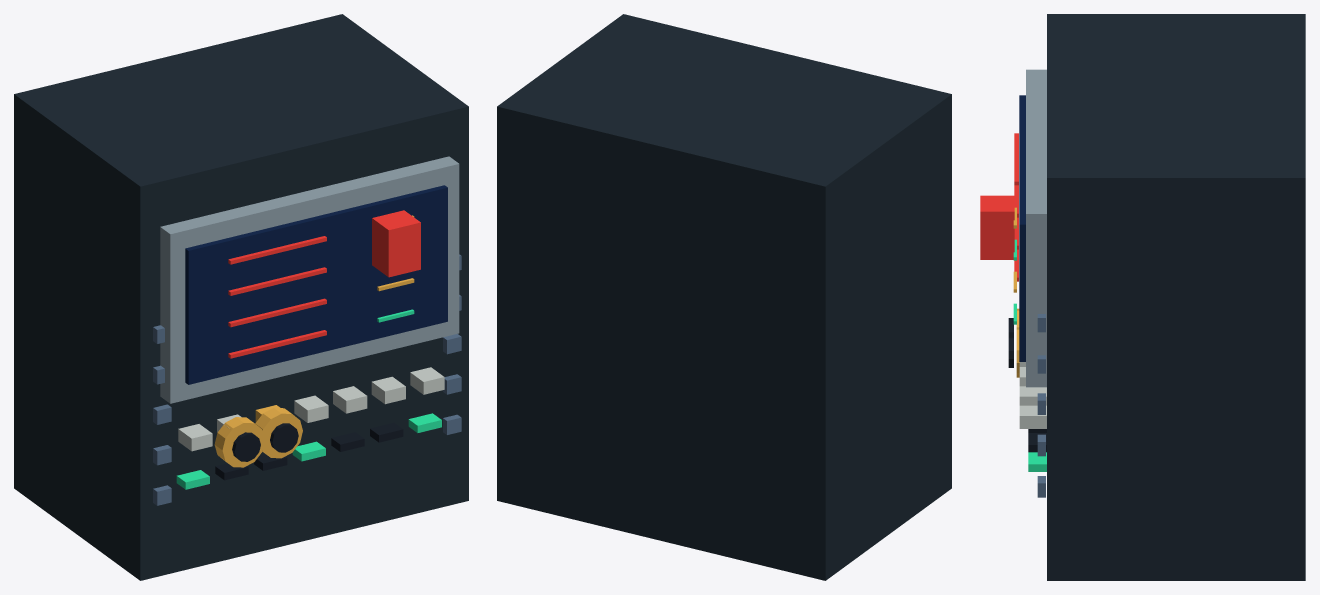
Rendered from 66_L84_ReactionWheelSaturationAlarm.fbx.
3 views of the same model, side by side, from view 1: azimuth 30°, elevation 25°; view 2: azimuth 150°, elevation 25°; view 3: azimuth 270°, elevation 25° (orthographic). The views are drawn at different scales.
Parts seen in each view (by area): view 1: L84_ReactionWheelSaturationAlarm, L84_ReactionWheelSaturationAlarm_Part_0010, L84_ReactionWheelSaturationAlarm_Part_0012, L84_ReactionWheelSaturationAlarm_Part_0011, L84_ReactionWheelSaturationAlarm_Part_0013; view 2: L84_ReactionWheelSaturationAlarm; view 3: L84_ReactionWheelSaturationAlarm.
Part boxes in pixels (<box>): L84_ReactionWheelSaturationAlarm: <box>14,14,468,580</box>; L84_ReactionWheelSaturationAlarm_Part_0010: <box>214,417,264,467</box>; L84_ReactionWheelSaturationAlarm_Part_0012: <box>255,408,302,458</box>; L84_ReactionWheelSaturationAlarm_Part_0011: <box>232,432,260,461</box>; L84_ReactionWheelSaturationAlarm_Part_0013: <box>270,423,298,452</box>; L84_ReactionWheelSaturationAlarm: <box>497,14,951,580</box>; L84_ReactionWheelSaturationAlarm: <box>980,14,1305,580</box>.
Size of the model in its own units: 99.96 by 115 by 83.79.
